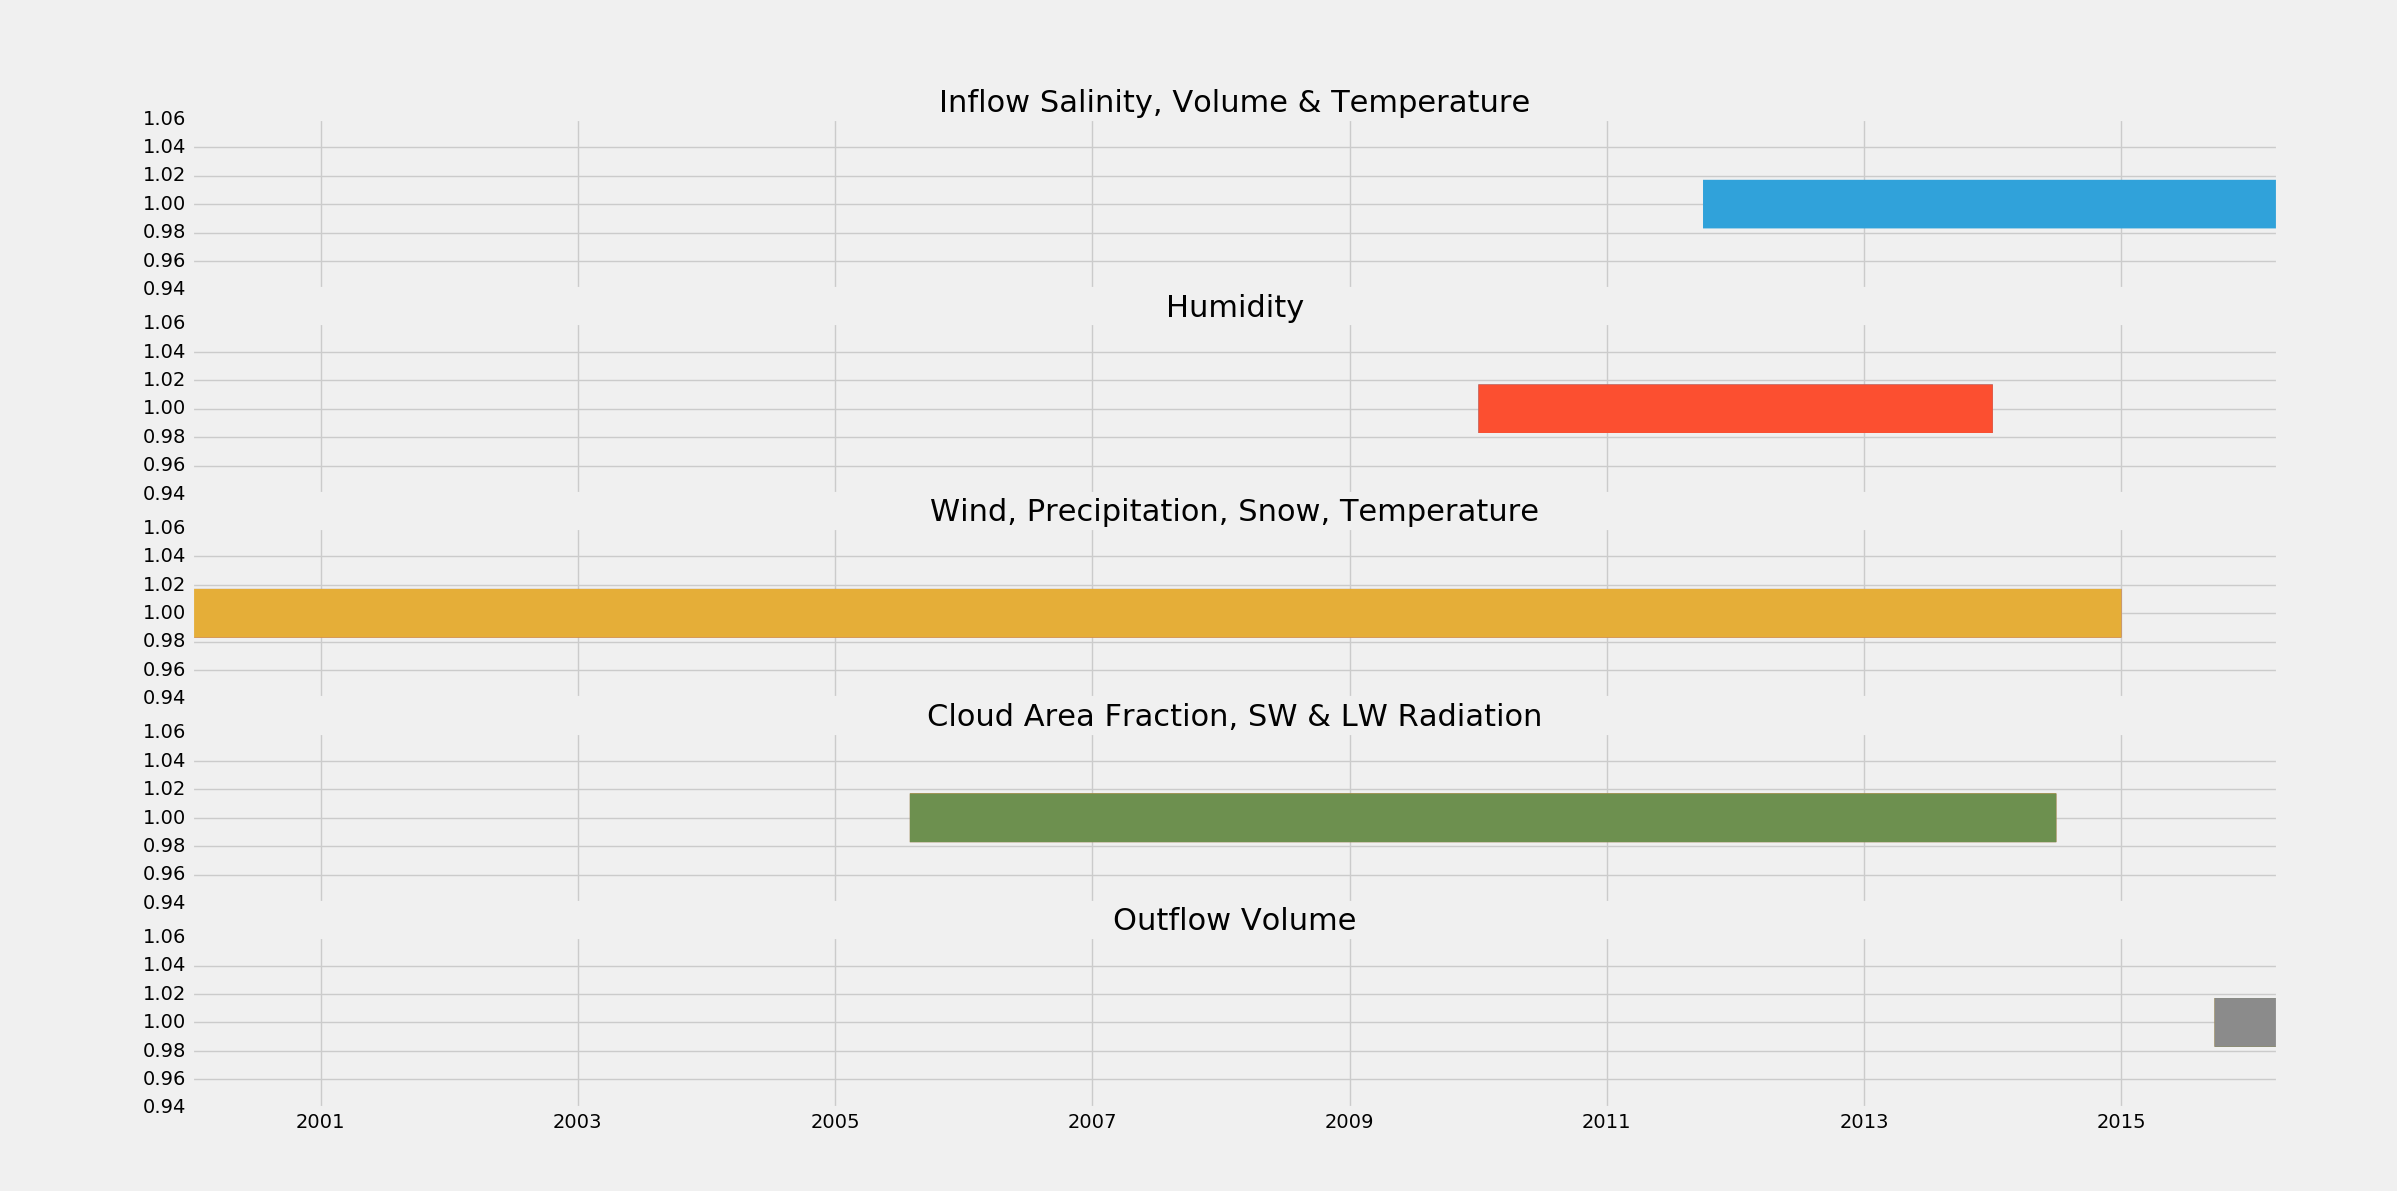

What the dashboard file says about the page in this screenshot:
{"tool":"tableau","page":{"name":"2015 Lines","canvas":[650,600],"ordinal":5},"visuals":[{"type":"worksheet","title":"2015 LinesRaw","mark":"Automatic","rows":["ResultValue"],"cols":["Datetime"],"box":[0,0,478,600]},{"type":"filter","title":"2015 LinesRaw","param":"[msaccess.41562.933590833331].[none:CharacteristicName:nk]","box":[478,0,168,53]},{"type":"text","box":[478,53,168,36]},{"type":"legend","title":"2015 LinesRaw","param":"[msaccess.41562.933590833331].[none:Calculation_4831016214107055:nk]","box":[478,89,168,308]}]}

Visuals, with their boxes on the page's 650x600 design canvas (x1, y1, x2, y2). These are canvas units, not pixel positions in the 2397x1191 screenshot, which may show the page scaled, cropped or inside an application window:
"2015 LinesRaw" worksheet: 0:0:478:600
"2015 LinesRaw" filter: 478:0:646:53
text: 478:53:646:89
"2015 LinesRaw" legend: 478:89:646:397
